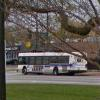Bus: (14, 50, 87, 74)
